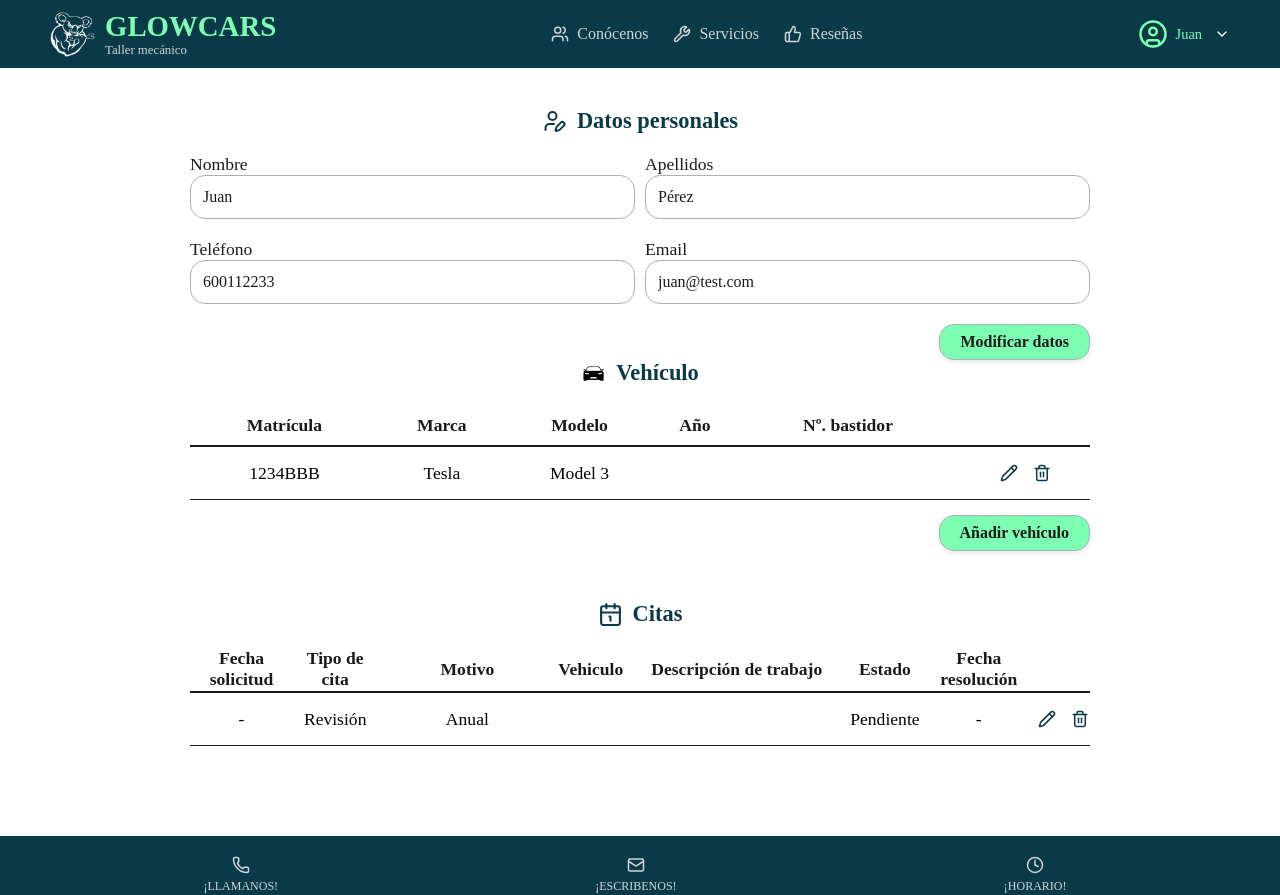
Test: Pruebas en <Perfil /> › debe eliminar un vehículo tras confirmar en el modal
Expected: the text "Tesla" is shown, [379, 446, 505, 500]
Click the 1st icon with class "lucide-trash2". click: (1042, 473)
box: [1033, 464, 1051, 482]
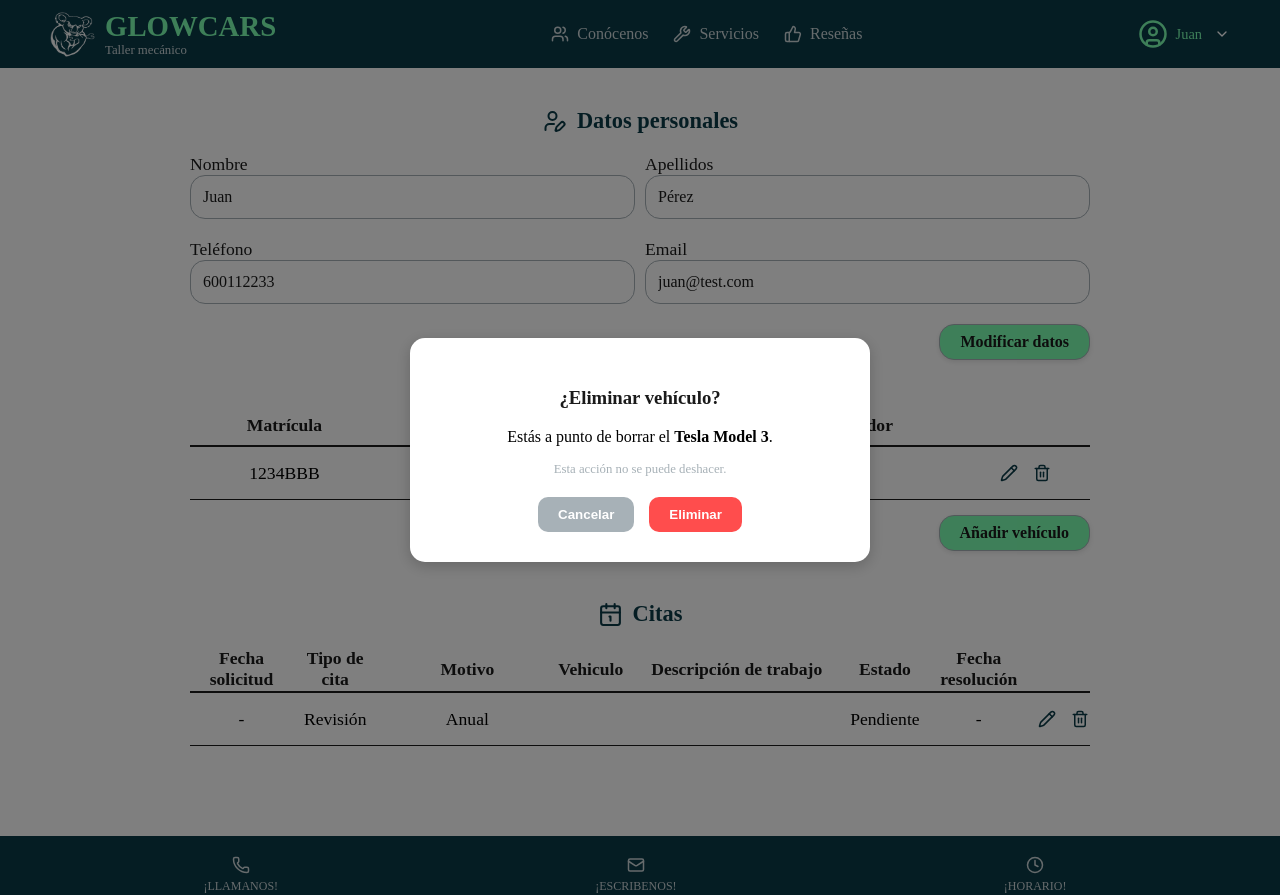
Click the button "Eliminar". click: (696, 514)
box: [649, 497, 742, 532]
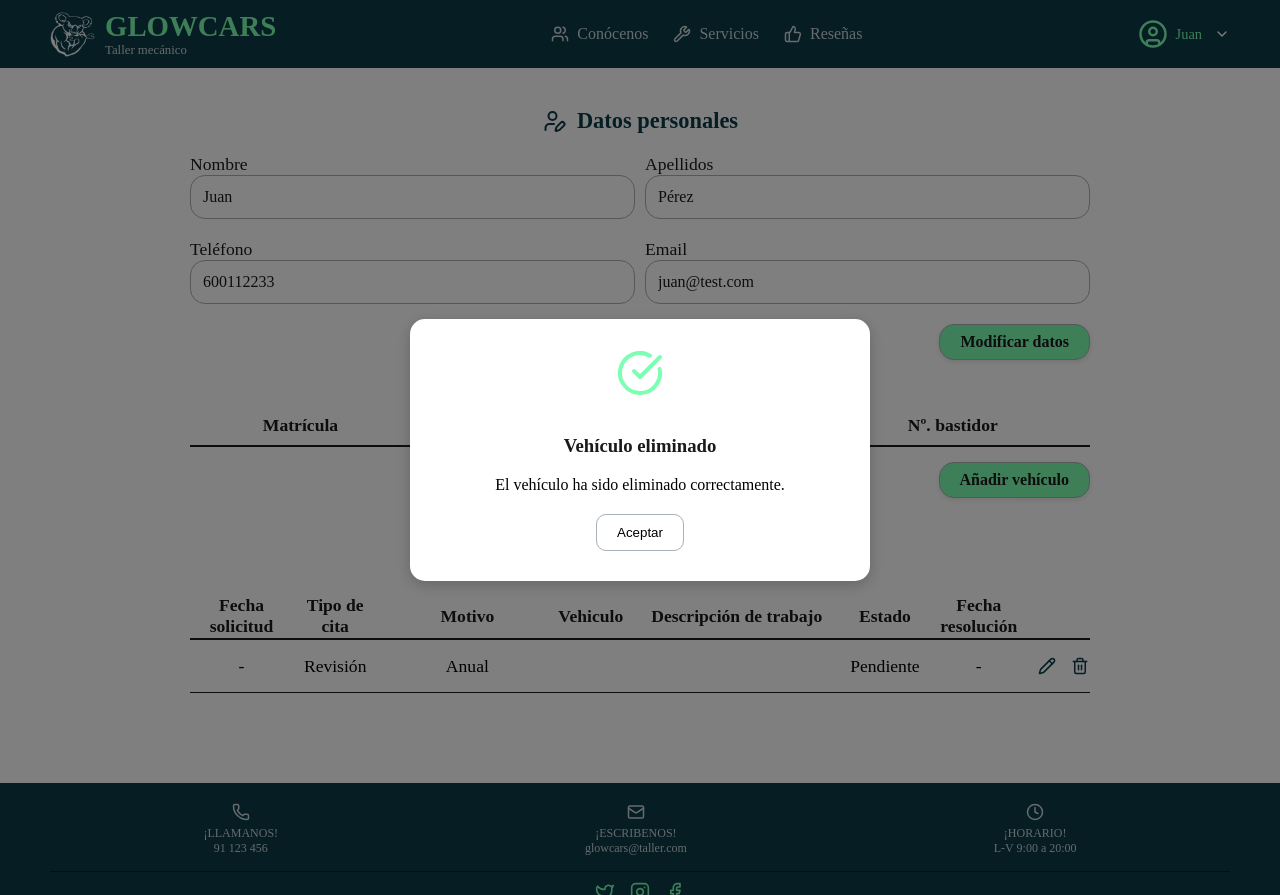
Expected: the heading "Vehículo eliminado" is shown, [564, 435, 716, 456]
